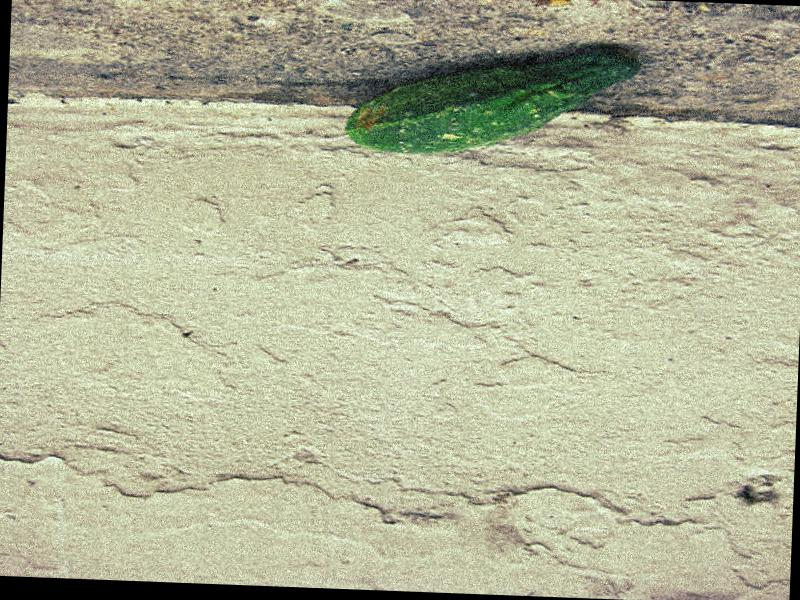Cucumber: (344, 38, 637, 162)
